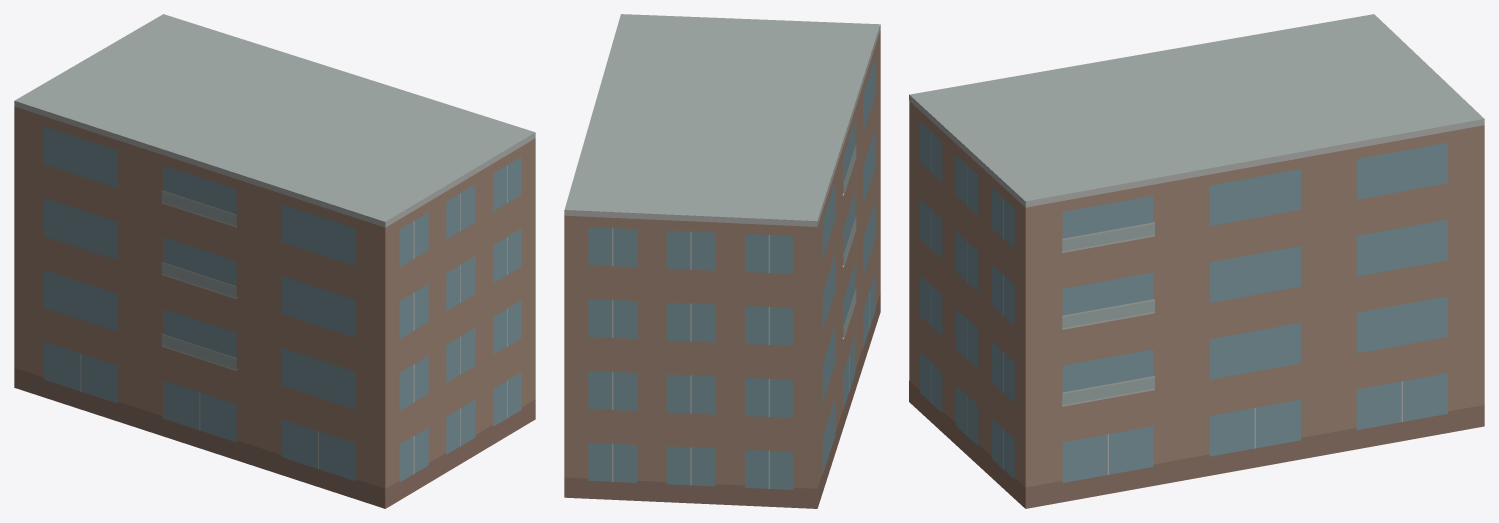
The model's file is survey-upis-32918943.glb.
3 views of the same model, side by side, from view 1: azimuth 30°, elevation 25°; view 2: azimuth 150°, elevation 25°; view 3: azimuth 270°, elevation 25° (orthographic). The views are drawn at different scales.
Visible parts, largest first — view 1: survey-upis-32918943.tmp; view 2: survey-upis-32918943.tmp; view 3: survey-upis-32918943.tmp.
Part boxes in pixels (x1,y1,x2,y2): survey-upis-32918943.tmp: [14, 14, 535, 508]; survey-upis-32918943.tmp: [564, 14, 880, 508]; survey-upis-32918943.tmp: [909, 14, 1484, 508].
Size of the model in its own units: 15.97 by 12.2 by 20.71.
